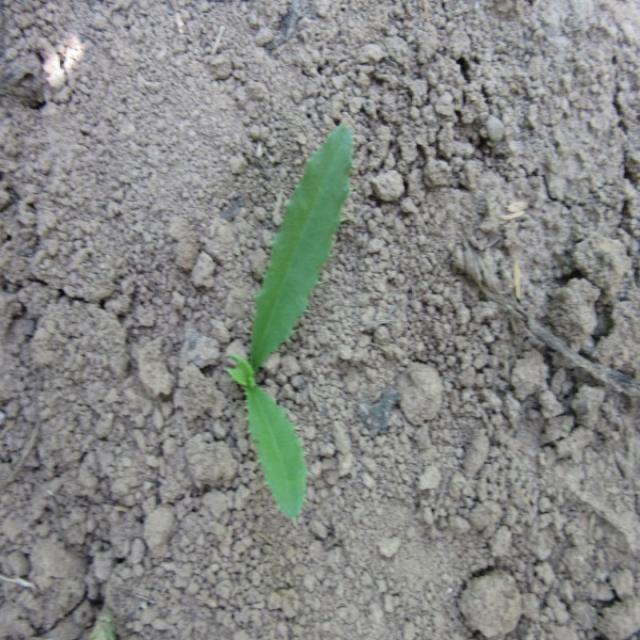field_thistle: (184, 97, 390, 537)
